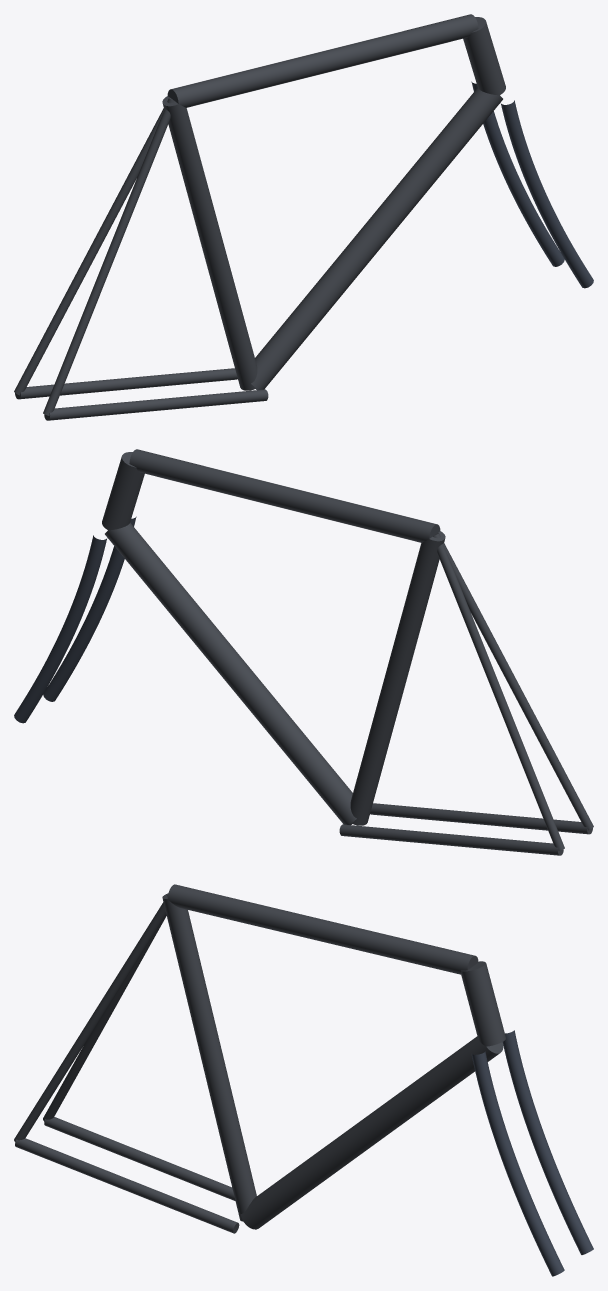
Rendered from skream-magnum-s.glb.
The picture shows the model from 3 angles, top to bottom: view 1: azimuth 30°, elevation 25°; view 2: azimuth 150°, elevation 25°; view 3: azimuth 330°, elevation 25°; orthographic projection.
Parts seen in each view (by area): view 1: paint_down, paint_top, paint_seat, paint_seatstay_0.045, fork_0.045, paint_seatstay_-0.045, paint_chainstay_0.045, paint_chainstay_-0.045, fork_-0.045, paint_head; view 2: paint_down, paint_top, paint_seat, paint_seatstay_-0.045, fork_-0.045, paint_seatstay_0.045, paint_chainstay_-0.045, paint_chainstay_0.045, fork_0.045, paint_head; view 3: paint_down, paint_seat, paint_top, fork_0.045, fork_-0.045, paint_chainstay_0.045, paint_seatstay_0.045, paint_chainstay_-0.045, paint_head, paint_seatstay_-0.045.
Part boxes in pixels (x1=…): paint_down: x1=251, y1=87, x2=502, y2=389; paint_top: x1=167, y1=14, x2=478, y2=107; paint_seat: x1=162, y1=96, x2=257, y2=390; paint_seatstay_0.045: x1=43, y1=99, x2=175, y2=415; fork_0.045: x1=500, y1=100, x2=593, y2=288; paint_seatstay_-0.045: x1=14, y1=97, x2=172, y2=395; paint_chainstay_0.045: x1=44, y1=389, x2=268, y2=420; paint_chainstay_-0.045: x1=15, y1=368, x2=237, y2=399; fork_-0.045: x1=471, y1=81, x2=564, y2=266; paint_head: x1=463, y1=17, x2=505, y2=95; paint_down: x1=105, y1=522, x2=356, y2=824; paint_top: x1=129, y1=449, x2=440, y2=542; paint_seat: x1=350, y1=531, x2=445, y2=825; paint_seatstay_-0.045: x1=432, y1=534, x2=564, y2=850; fork_-0.045: x1=14, y1=535, x2=107, y2=723; paint_seatstay_0.045: x1=435, y1=532, x2=593, y2=830; paint_chainstay_-0.045: x1=339, y1=824, x2=563, y2=855; paint_chainstay_0.045: x1=370, y1=803, x2=592, y2=834; fork_0.045: x1=43, y1=516, x2=136, y2=701; paint_head: x1=102, y1=452, x2=144, y2=530; paint_down: x1=240, y1=1036, x2=503, y2=1229; paint_seat: x1=162, y1=893, x2=256, y2=1221; paint_top: x1=167, y1=884, x2=478, y2=974; fork_0.045: x1=471, y1=1051, x2=564, y2=1276; fork_-0.045: x1=502, y1=1030, x2=593, y2=1254; paint_chainstay_0.045: x1=15, y1=1138, x2=239, y2=1233; paint_seatstay_0.045: x1=14, y1=895, x2=167, y2=1141; paint_chainstay_-0.045: x1=44, y1=1117, x2=235, y2=1200; paint_head: x1=461, y1=961, x2=505, y2=1046; paint_seatstay_-0.045: x1=43, y1=914, x2=166, y2=1121.
Bounding box in the file's own units: 0.9786 × 0.5524 × 0.112.
